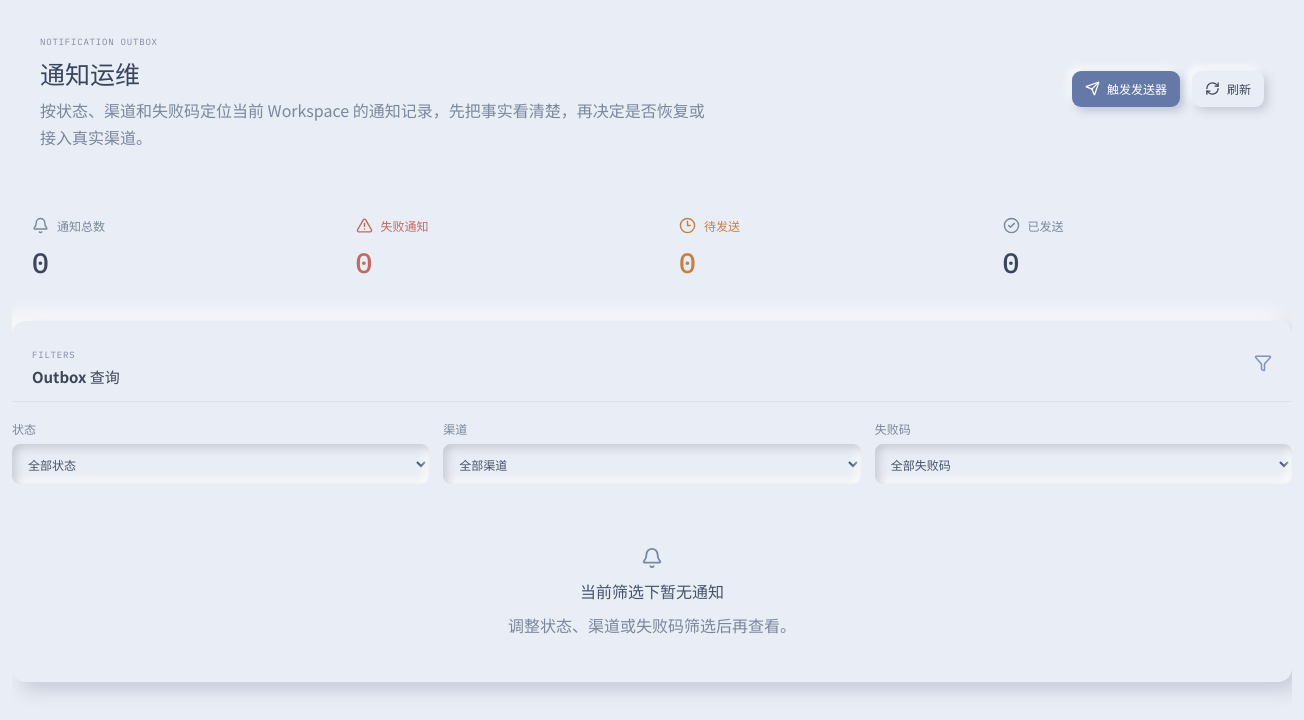
Test: Notifications page › shows empty and error states clearly
The width and height of the screenshot is (1304, 720).
Expected: the text "当前筛选下暂无通知" is shown, [580, 579, 724, 603]
Click the button "刷新" at (1228, 89), box [1192, 71, 1264, 107]
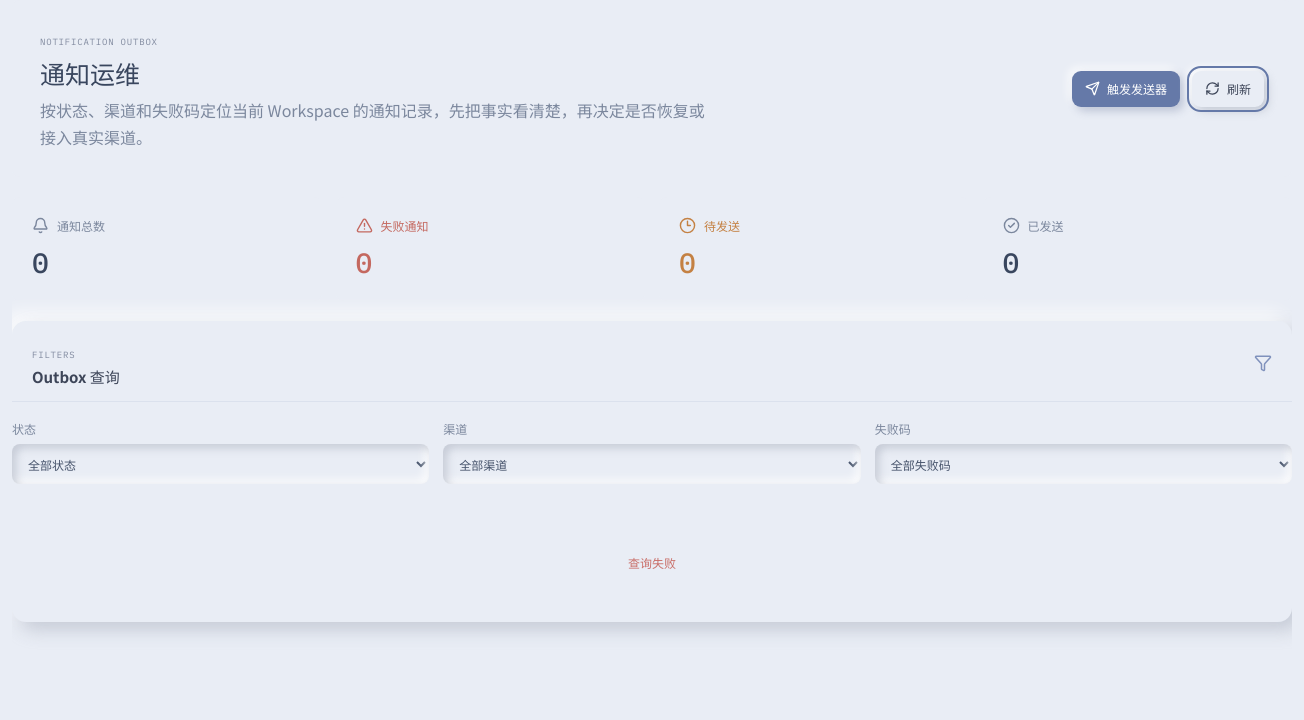
Now the message reads "查询失败", box [628, 554, 676, 571]
